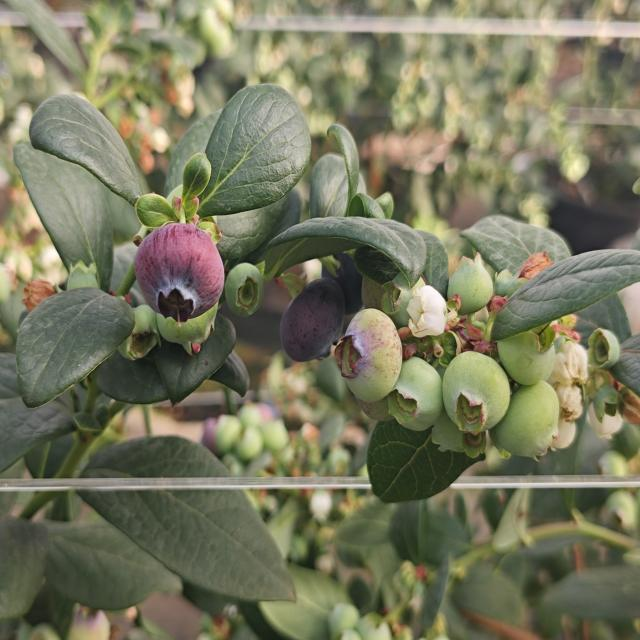ripe: (127, 219, 235, 319), (281, 276, 341, 360)
